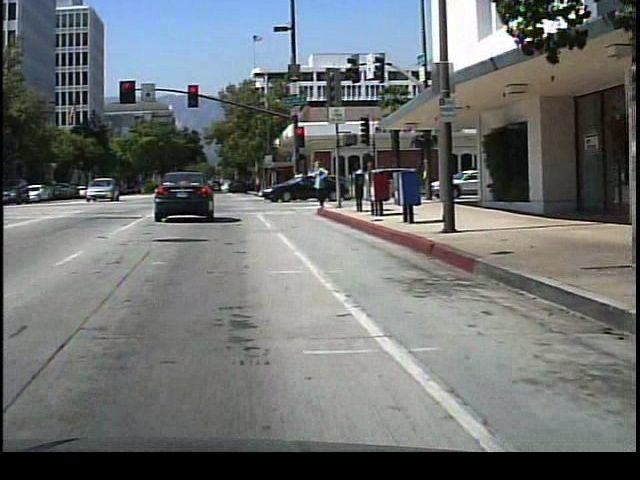person: (310, 153, 334, 214), (365, 155, 384, 205), (353, 157, 371, 203)
